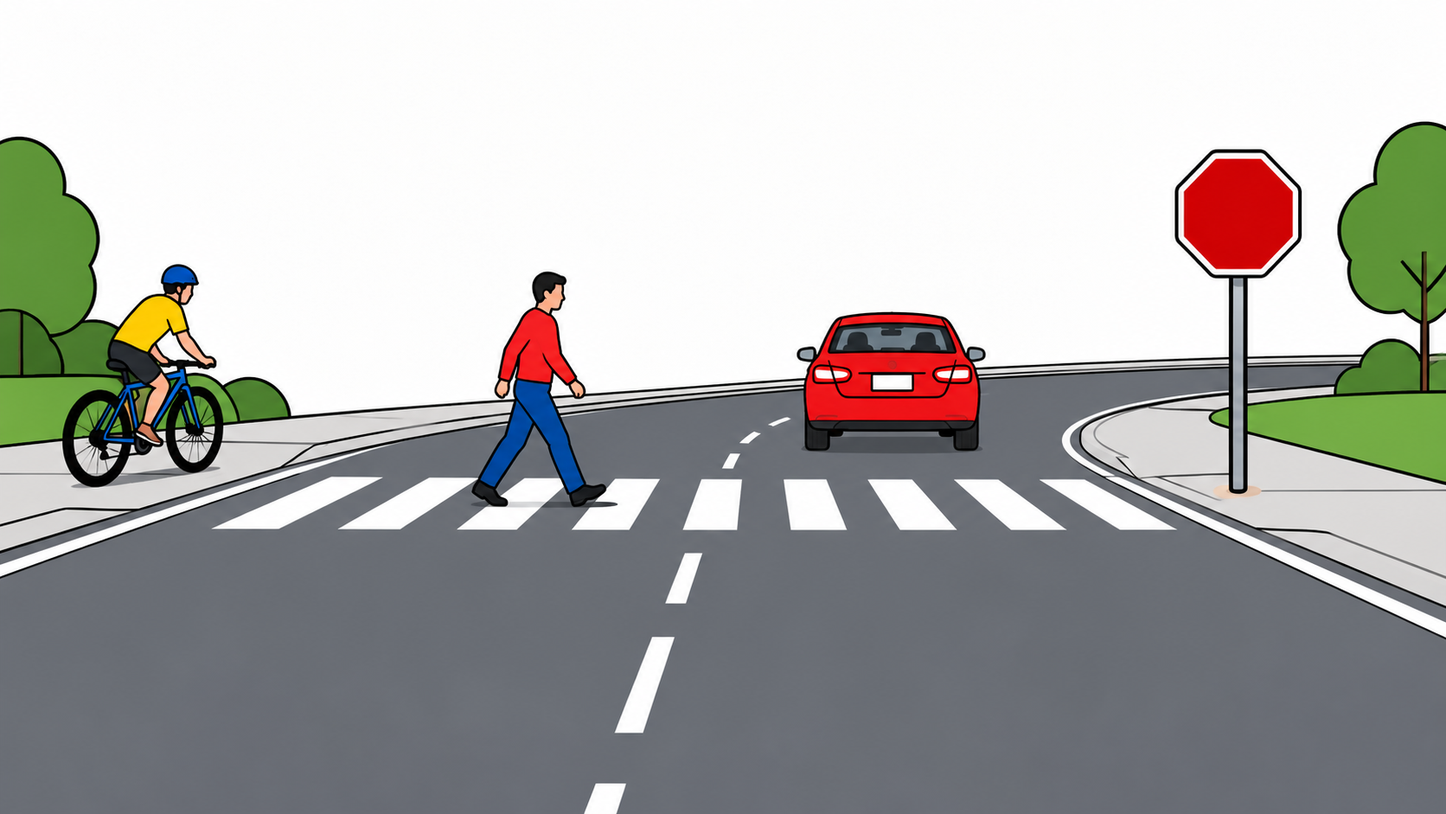bicycle: (60, 363, 227, 489)
car: (790, 310, 989, 458)
person: (469, 270, 633, 511), (79, 262, 217, 458)
stop_sign: (1174, 147, 1302, 279)
zebra_crossing: (210, 469, 1195, 544)
